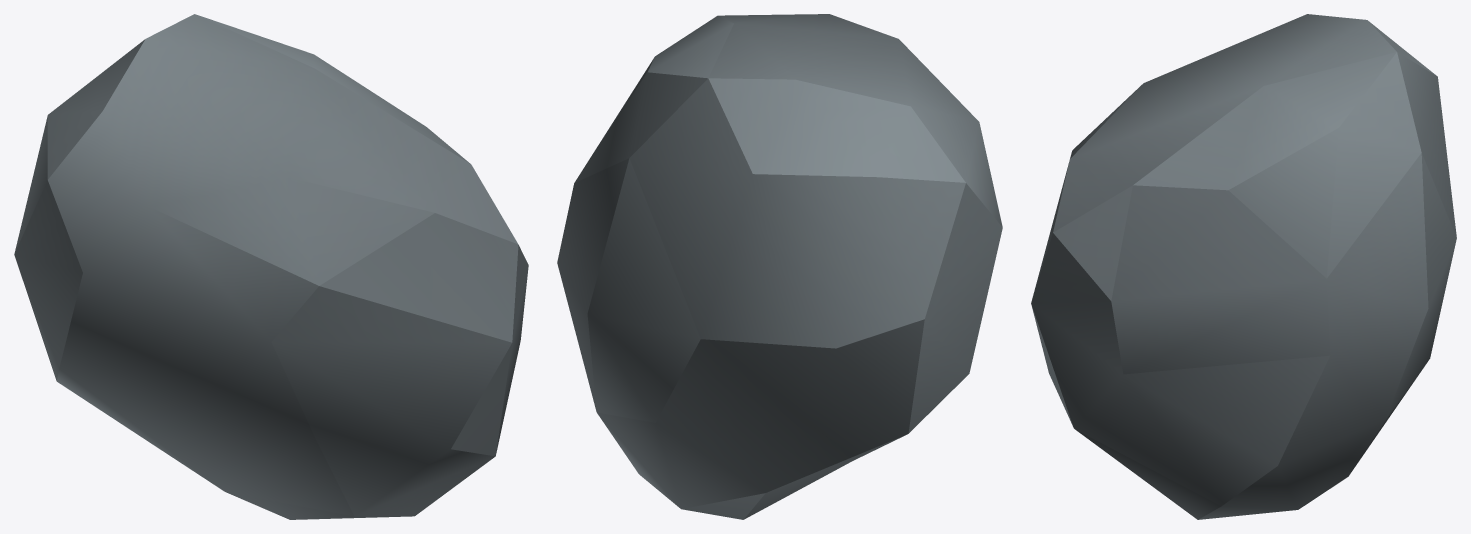
The model's file is Rock_3_C_Color1.gltf.
3 renders of one model, left to right at view 1: azimuth 30°, elevation 25°; view 2: azimuth 150°, elevation 25°; view 3: azimuth 270°, elevation 25°, orthographic. The views are drawn at different scales.
Visible parts, largest first — view 1: Rock_3_C_Color1; view 2: Rock_3_C_Color1; view 3: Rock_3_C_Color1.
Boxes of the visible parts, x1,y1,x2,y2 form: Rock_3_C_Color1: [14, 14, 528, 519]; Rock_3_C_Color1: [557, 14, 1002, 519]; Rock_3_C_Color1: [1031, 14, 1456, 519].
Bounding box in the file's own units: 0.805 × 0.9676 × 0.8597.
Materials: 1 (1 with a texture image).
